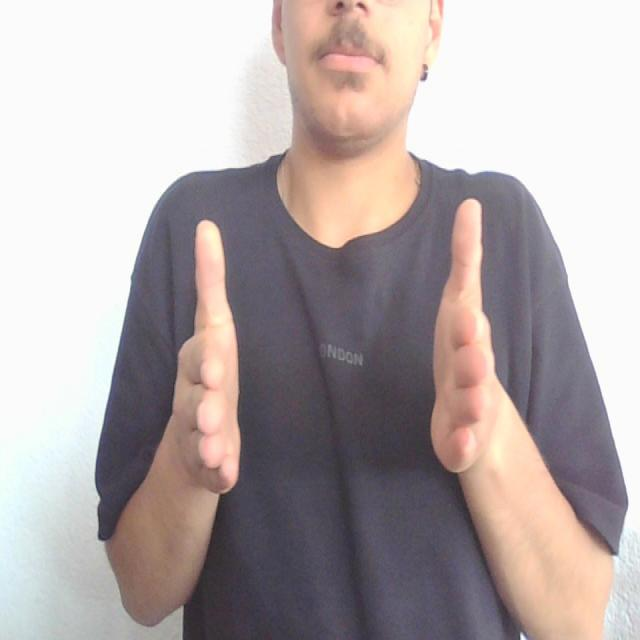Nasil: (170, 191, 502, 495)
